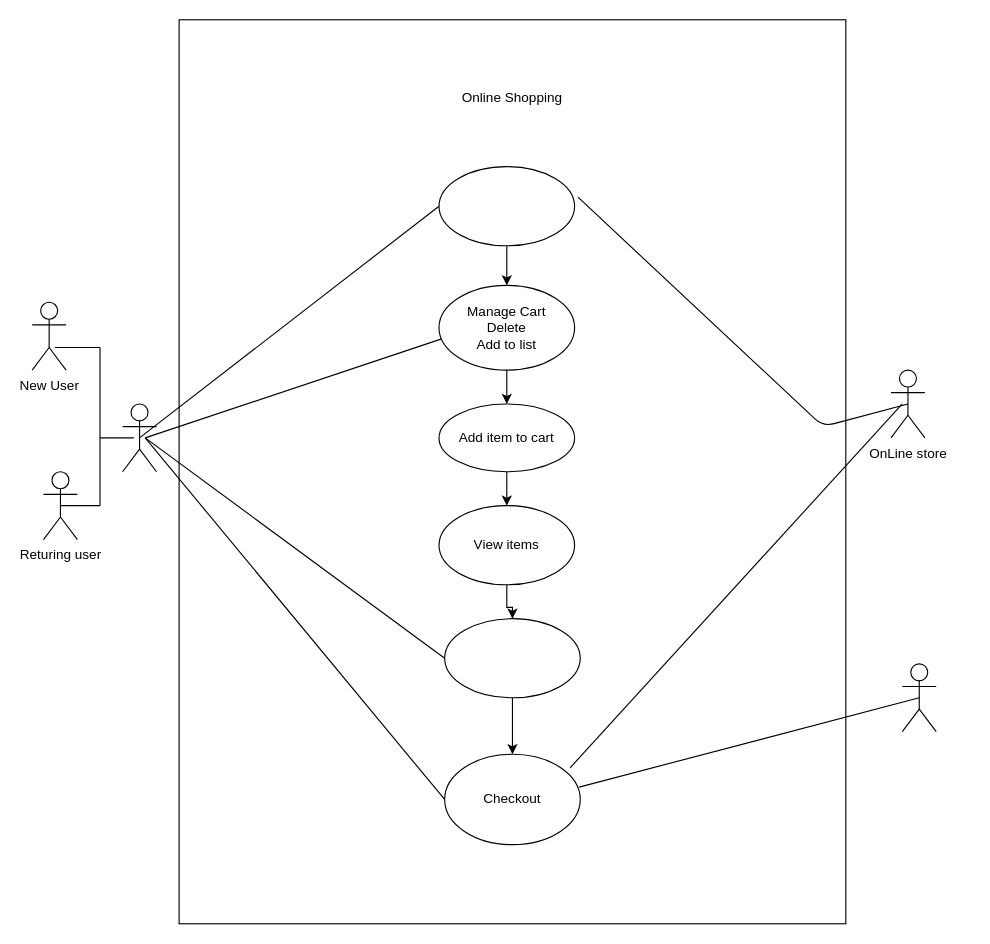
Some shapes in this 990 by 944 pixel diagram are drawn without their labels. The box of each missing label's shape, as (x1, y1, x2, y2) in pixels:
Customer: (121, 403, 157, 472)
Login: (438, 166, 575, 246)
Make Purchace: (444, 618, 580, 698)
Payment Service: (901, 663, 936, 732)
